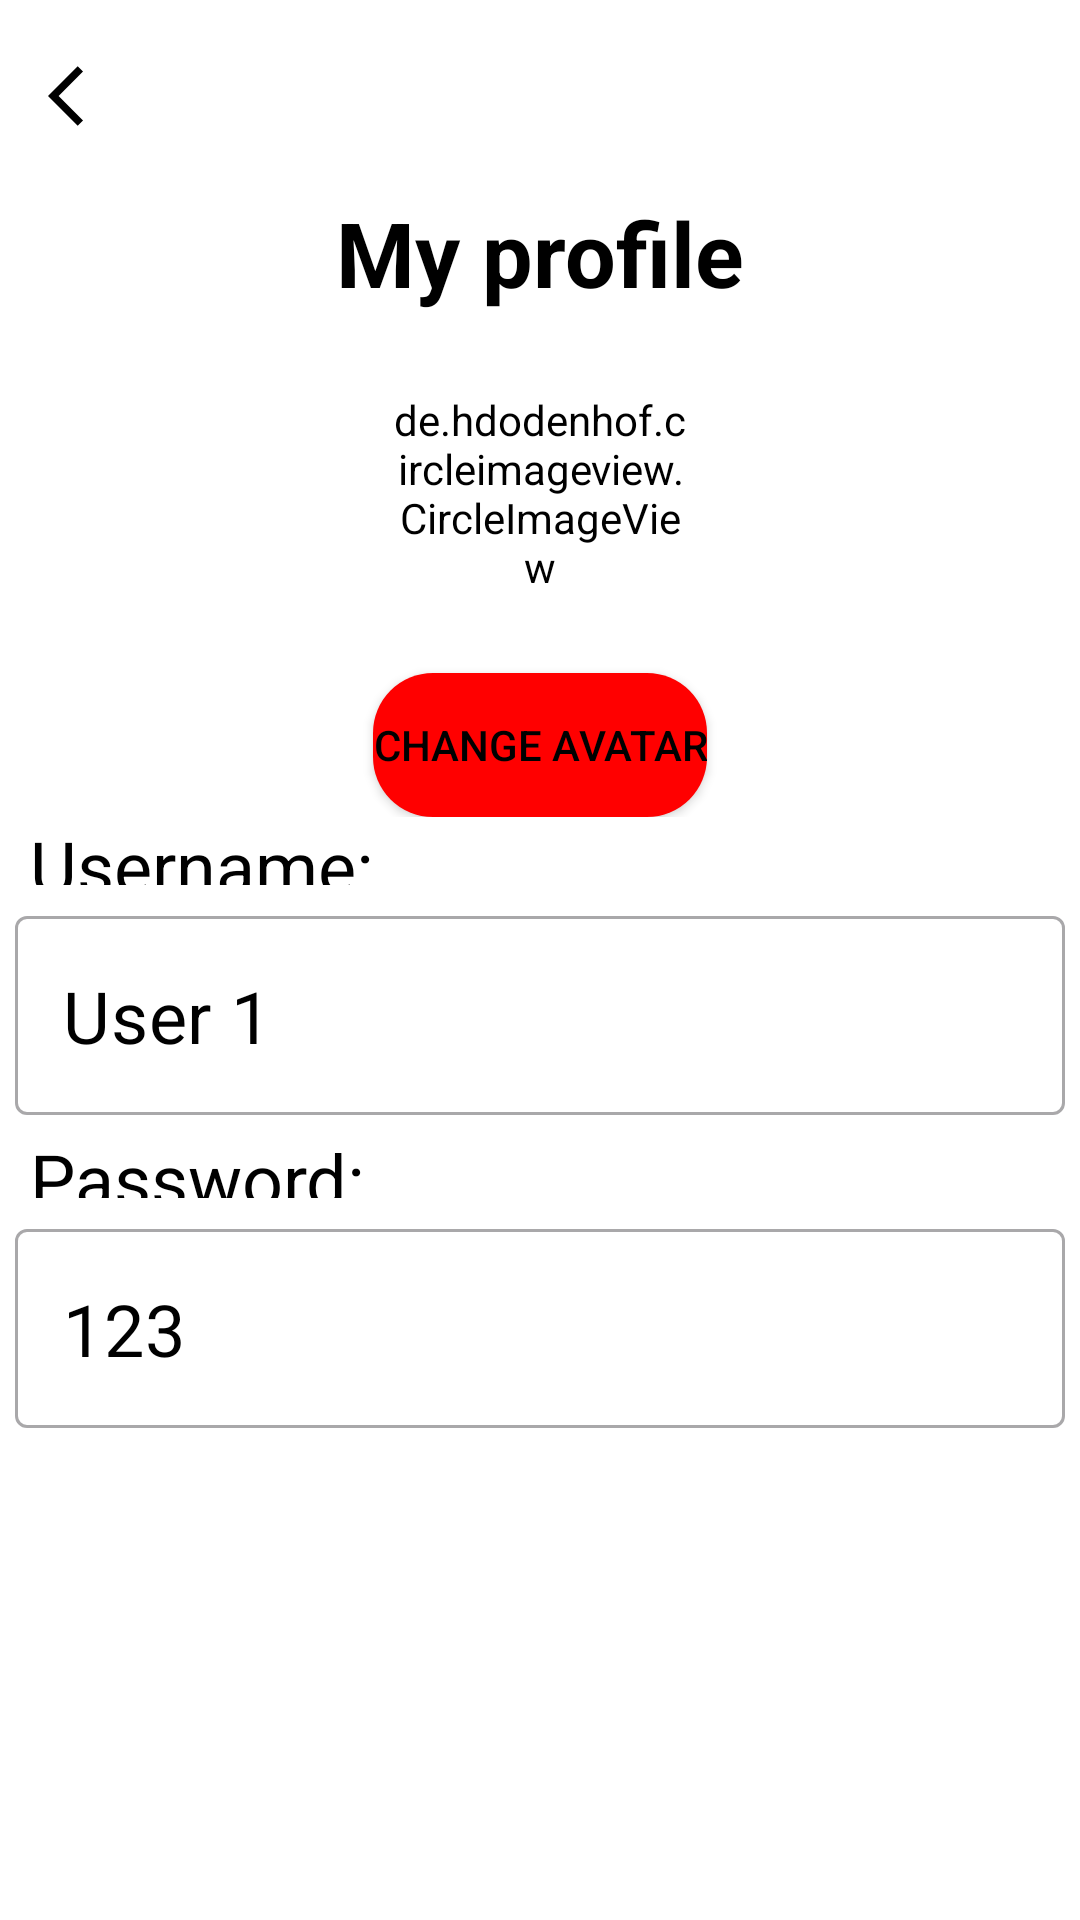

Point at icon controls on the screen. Image size 1080*1920, points as [x,y].
arrow back: [65,96]
